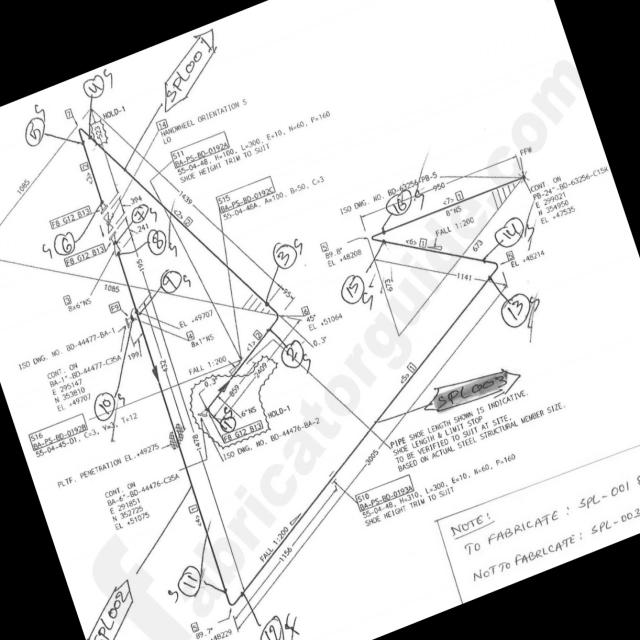Item number: (434, 367, 510, 411), (214, 171, 276, 214), (353, 472, 414, 514), (169, 128, 231, 168), (28, 412, 88, 453), (220, 416, 268, 444), (62, 241, 107, 268), (48, 202, 91, 230), (492, 183, 510, 207), (108, 299, 122, 314), (155, 116, 168, 132), (299, 302, 311, 318), (406, 359, 419, 373), (504, 249, 518, 261), (63, 105, 74, 119), (453, 188, 463, 203), (319, 239, 329, 254), (188, 501, 199, 514), (418, 236, 429, 248), (63, 293, 71, 306), (78, 160, 87, 171)
Measrement: (234, 278, 510, 635), (96, 113, 283, 289), (147, 292, 246, 593), (397, 176, 531, 343), (0, 246, 278, 318), (232, 483, 338, 626), (360, 152, 519, 223), (1, 118, 85, 234), (143, 302, 189, 436), (362, 239, 410, 342), (372, 255, 505, 289), (223, 336, 282, 406), (128, 228, 154, 308), (421, 211, 478, 240), (215, 391, 259, 422), (197, 623, 236, 639), (66, 293, 93, 313), (417, 169, 440, 186), (278, 283, 296, 304), (299, 301, 312, 319)
Pipeline: (74, 121, 521, 613)
Symbol: (260, 297, 282, 332), (367, 229, 388, 262), (490, 269, 509, 296), (106, 230, 124, 256), (74, 122, 91, 146), (95, 197, 111, 220), (124, 305, 141, 326)
Weld number: (497, 290, 532, 331), (493, 214, 526, 250), (176, 561, 205, 598), (339, 270, 367, 306), (271, 238, 298, 271), (280, 338, 307, 370), (158, 265, 186, 295), (92, 388, 116, 422), (80, 70, 107, 100), (23, 111, 44, 147), (52, 227, 77, 257), (259, 613, 286, 639), (146, 226, 168, 256), (130, 201, 150, 224)
other: (356, 445, 524, 535), (390, 387, 568, 469), (529, 160, 610, 228), (103, 463, 181, 530), (220, 414, 320, 463), (223, 173, 326, 219), (46, 353, 118, 412), (34, 413, 123, 457), (164, 97, 248, 136), (339, 177, 418, 216), (187, 352, 230, 376), (325, 243, 363, 268), (178, 304, 213, 331), (193, 618, 234, 639), (510, 247, 547, 270), (306, 309, 343, 331), (189, 329, 218, 348)
